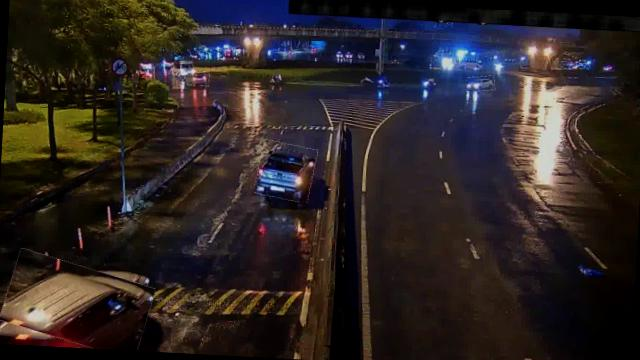Car: (2, 255, 154, 350), (255, 140, 316, 202), (466, 75, 495, 92), (185, 71, 209, 86)
